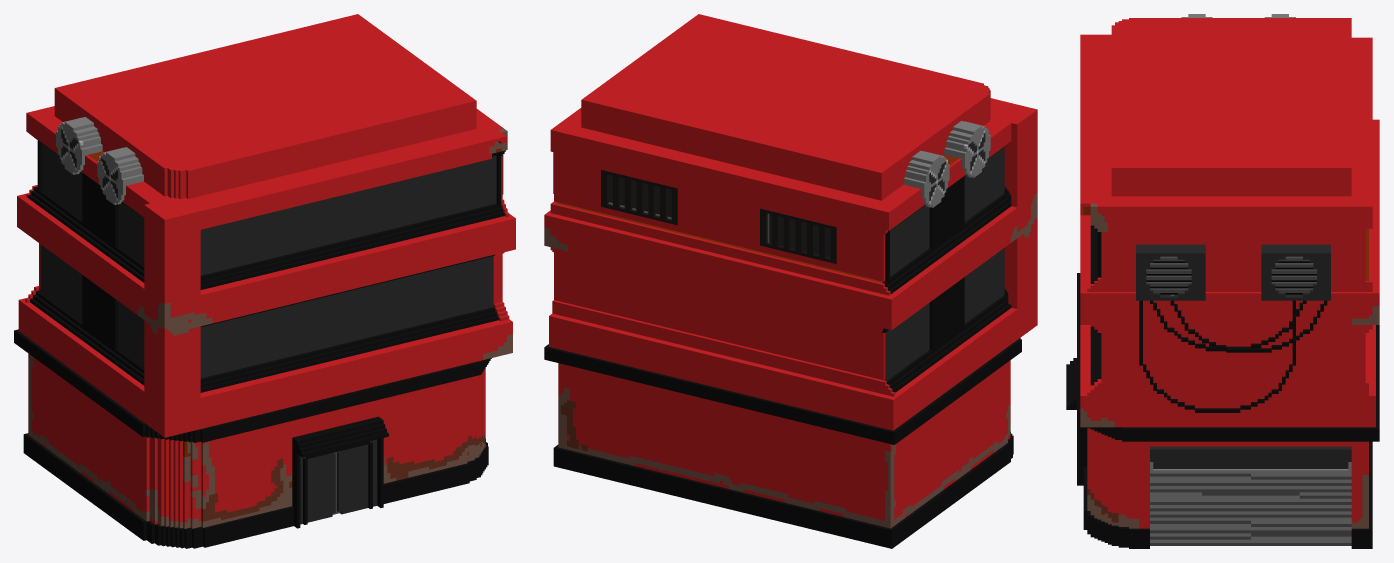
The model's file is Map3 (p1)-2.obj.
The picture shows the model from 3 angles, left to right: view 1: azimuth 30°, elevation 25°; view 2: azimuth 150°, elevation 25°; view 3: azimuth 270°, elevation 25°; orthographic projection. The views are drawn at different scales.
Size of the model in its own units: 12.4 by 11.8 by 9.
Materials: 1 (1 with a texture image).
